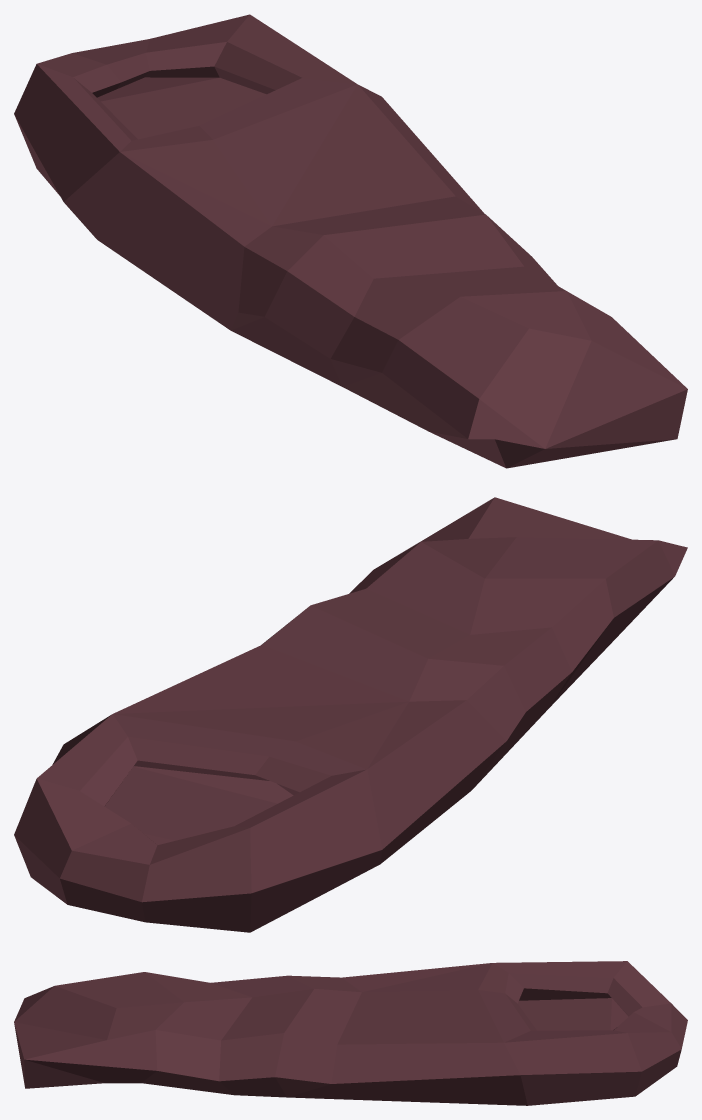
Rendered from sleeping-bag-open.fbx.
The picture shows the model from 3 angles, top to bottom: view 1: azimuth 30°, elevation 25°; view 2: azimuth 150°, elevation 25°; view 3: azimuth 270°, elevation 25°; orthographic projection. The views are drawn at different scales.
Visible parts, largest first — view 1: sleeping-bag-open; view 2: sleeping-bag-open; view 3: sleeping-bag-open.
Part boxes in pixels (x1=…): sleeping-bag-open: x1=14, y1=14, x2=687, y2=468; sleeping-bag-open: x1=14, y1=497, x2=687, y2=932; sleeping-bag-open: x1=14, y1=961, x2=687, y2=1105.
Bounding box in the file's own units: 0.8131 × 0.2721 × 2.21.
